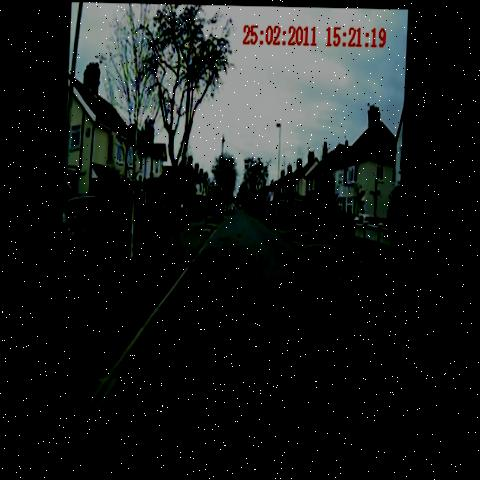pothole: (260, 366, 287, 415), (194, 277, 223, 305), (244, 242, 263, 265), (225, 306, 238, 334), (233, 221, 247, 245), (220, 227, 232, 245)
